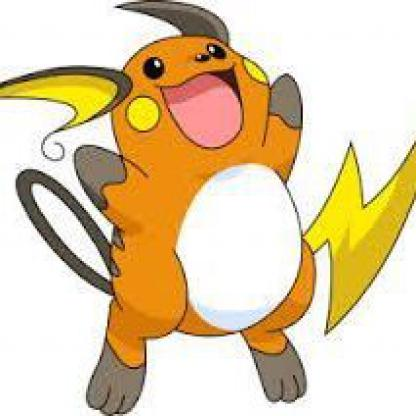Raichu: (1, 1, 415, 415)
